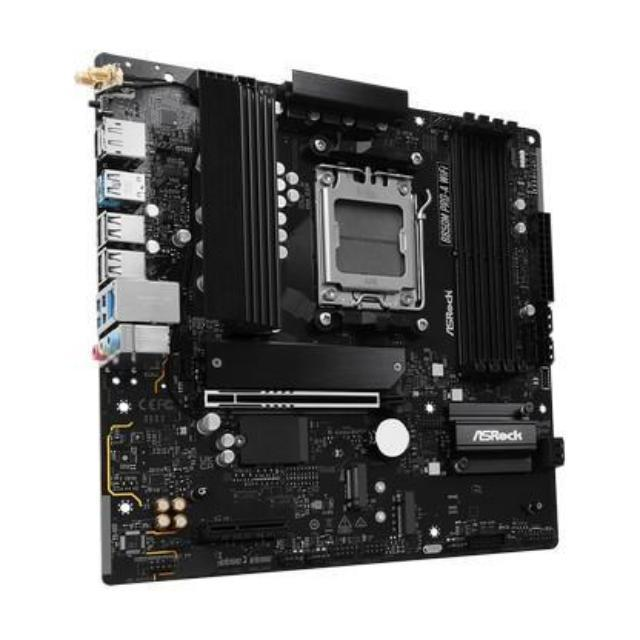Mainboard: (80, 36, 588, 606)
